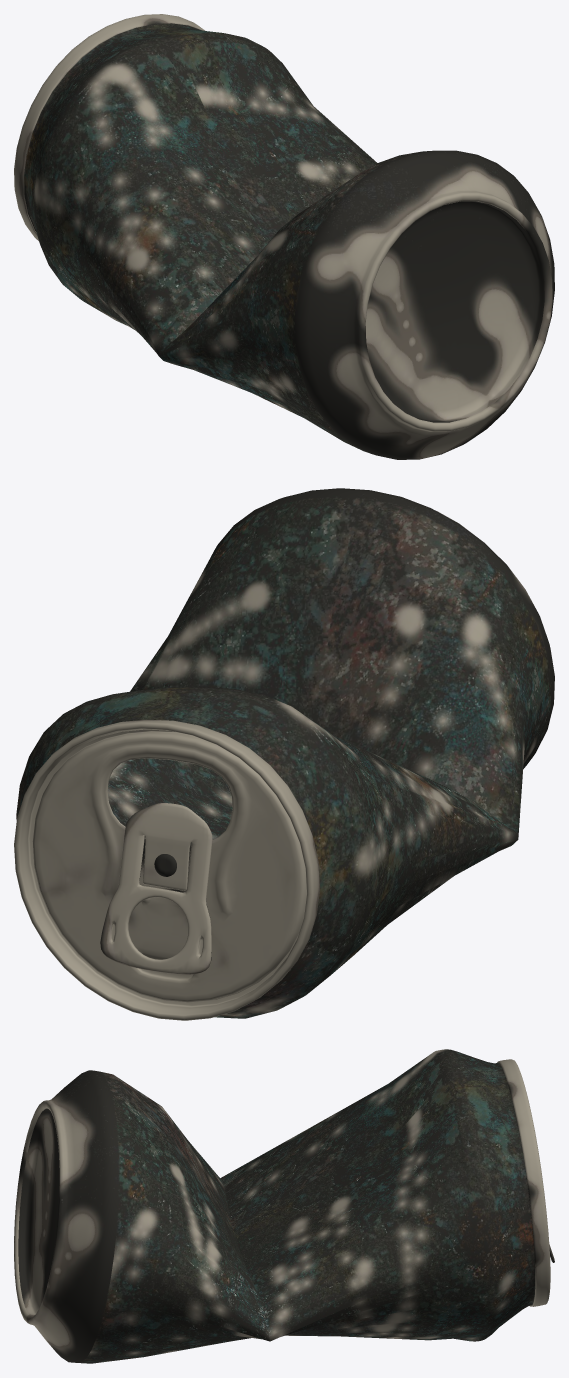
Rendered from MetalSodaCan.fbx.
3 views of the same model, one above another, from view 1: azimuth 30°, elevation 25°; view 2: azimuth 150°, elevation 25°; view 3: azimuth 270°, elevation 25° (orthographic). The views are drawn at different scales.
Visible parts, largest first — view 1: Crashed Tin Can; view 2: Crashed Tin Can; view 3: Crashed Tin Can.
Part boxes in pixels (x1,y1,x2,y2): Crashed Tin Can: [14, 14, 554, 459]; Crashed Tin Can: [14, 488, 554, 1020]; Crashed Tin Can: [14, 1049, 554, 1363].
Size of the model in its own units: 10.33 by 8.14 by 15.14.
